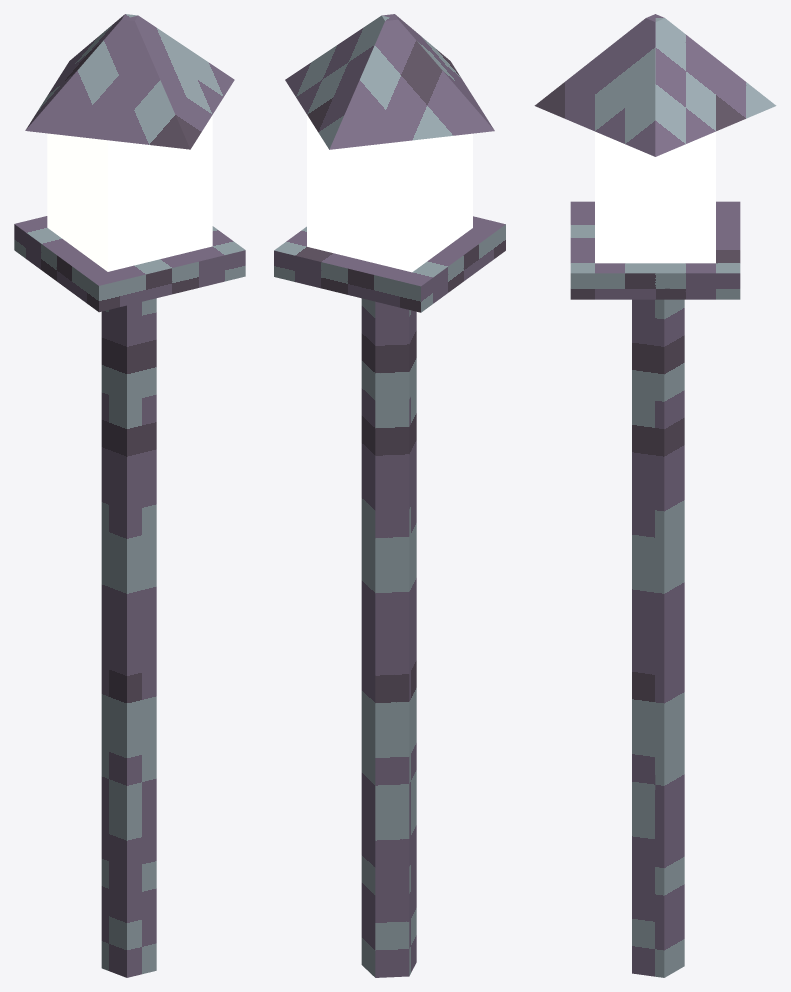
Rendered from a53_lanterna_fantasma.glb.
The picture shows the model from 3 angles, left to right: view 1: azimuth 30°, elevation 25°; view 2: azimuth 150°, elevation 25°; view 3: azimuth 270°, elevation 25°; orthographic projection.
Visible parts, largest first — view 1: a53_lanterna_fantasma; view 2: a53_lanterna_fantasma; view 3: a53_lanterna_fantasma.
Part boxes in pixels (bbox=[...]): a53_lanterna_fantasma: bbox=[14, 14, 245, 977]; a53_lanterna_fantasma: bbox=[274, 14, 505, 977]; a53_lanterna_fantasma: bbox=[534, 14, 776, 977].
Size of the model in its own units: 0.5 by 2.16 by 0.5.
Materials: 2 (1 with a texture image).
